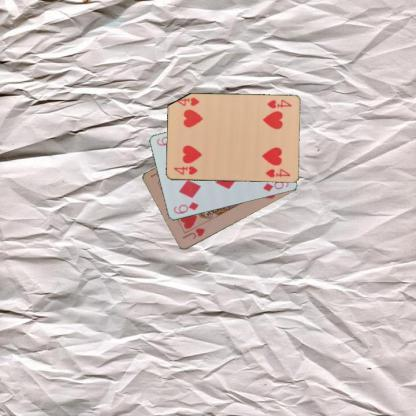4h: (171, 164, 199, 176), (264, 98, 292, 110)
6d: (171, 200, 200, 216)
Jh: (180, 225, 206, 241)
